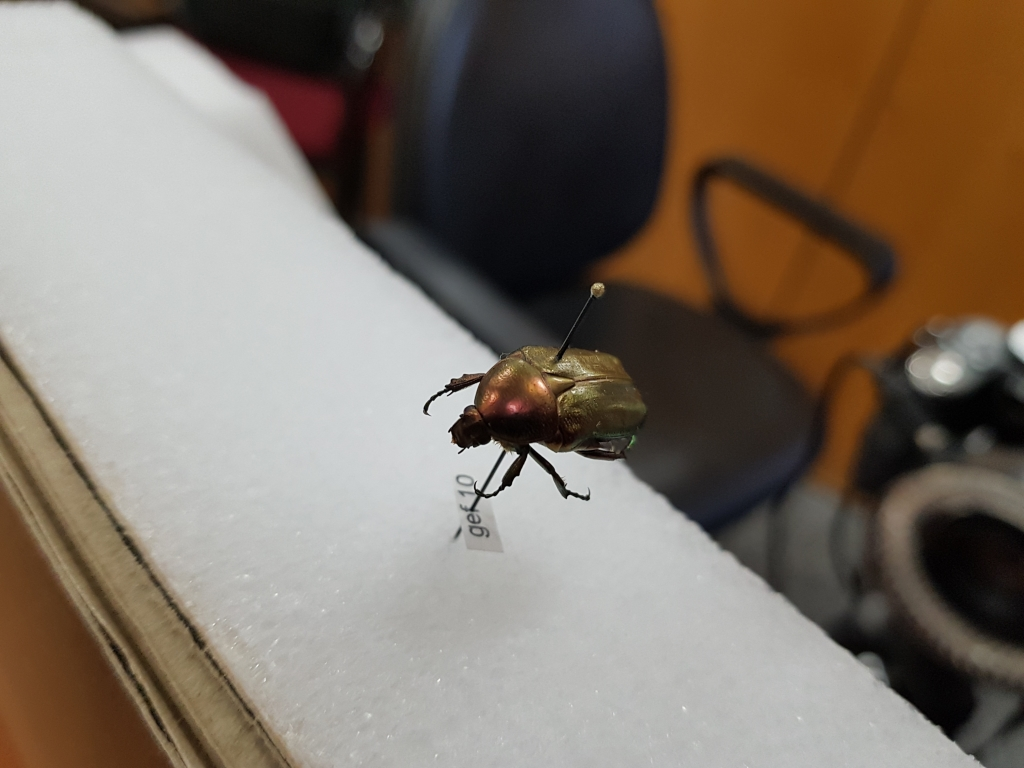Cetonia_aurata: (418, 334, 650, 505)
